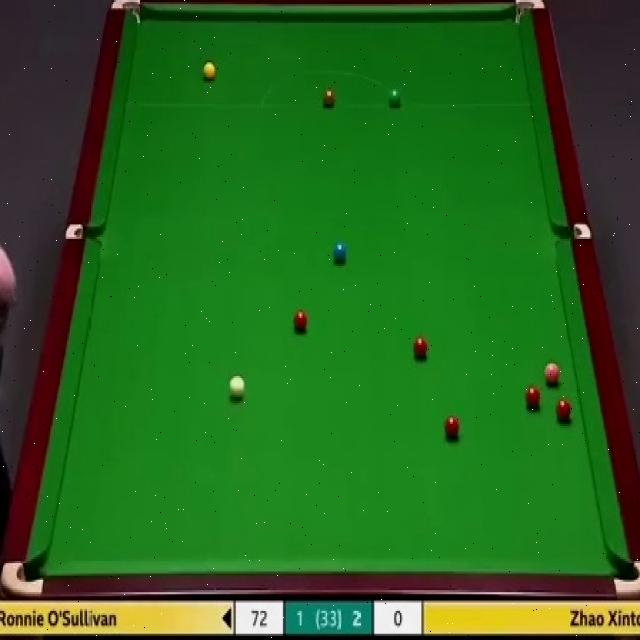blue-ball: (333, 238, 347, 266)
brown-ball: (322, 88, 337, 107)
green-ball: (388, 85, 402, 108)
pink-ball: (543, 362, 559, 386)
red-ball: (442, 417, 461, 443), (411, 336, 429, 359), (555, 398, 571, 421), (293, 308, 307, 330), (526, 384, 541, 404)
white-ball: (228, 375, 243, 398)
yellow-ball: (203, 63, 216, 82)
